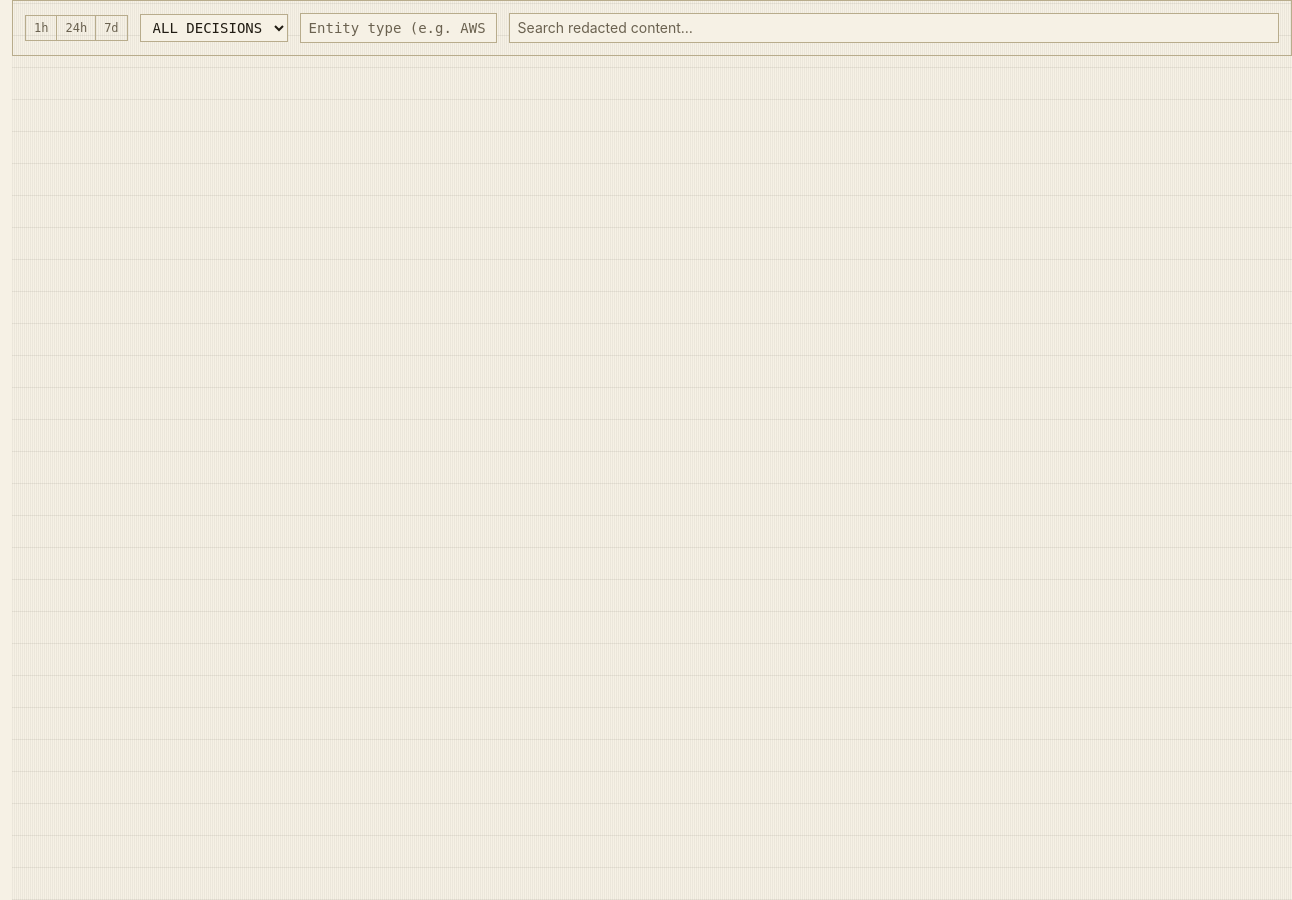
Test: AuditFilterBar › writes the decision filter into the URL query string
Select "block" in the dropdown at {"x": 214, "y": 28}, box [140,14,288,42]
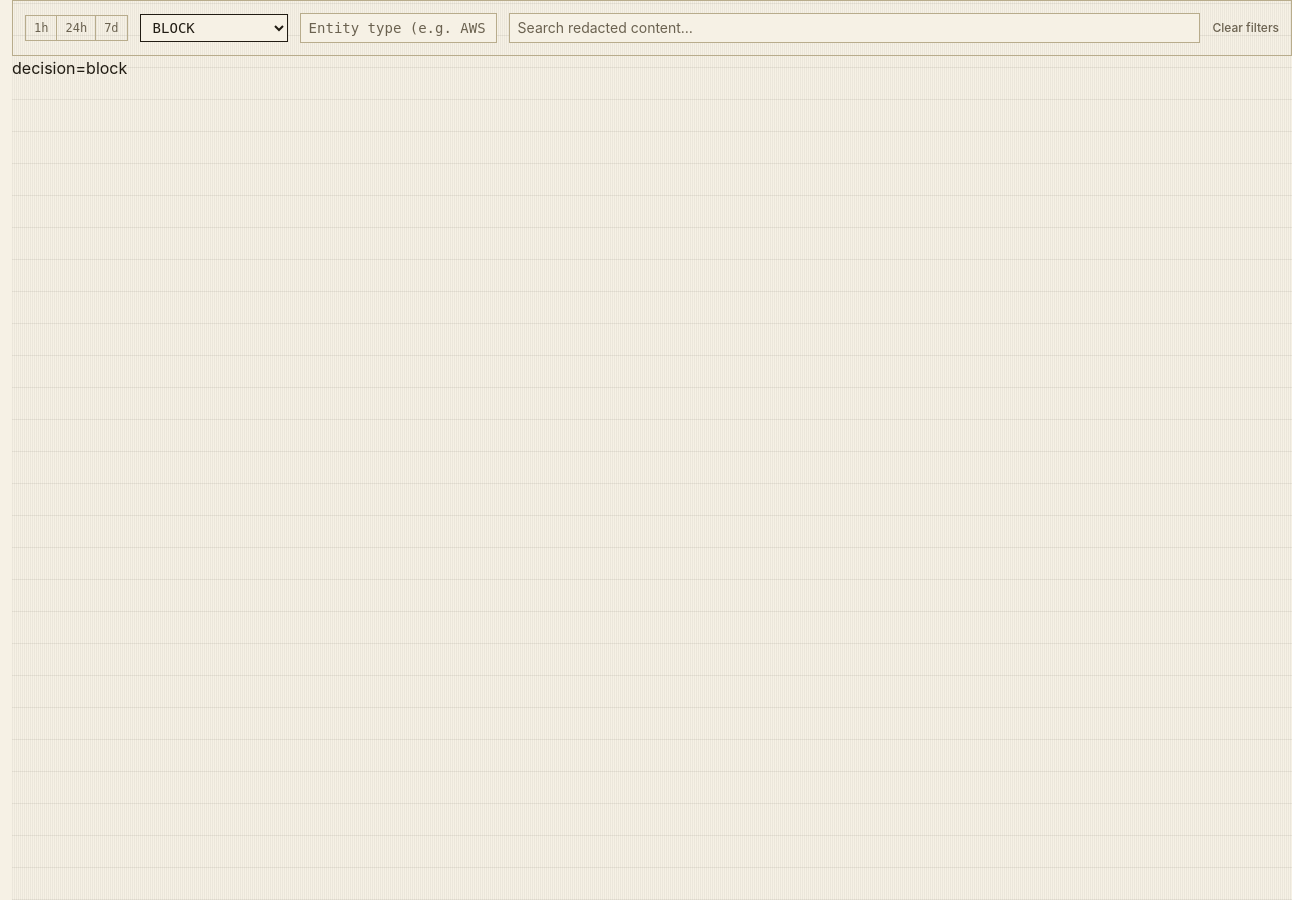
expect the text with test id "location-probe" reads "decision=block": met, box [12,58,127,78]
